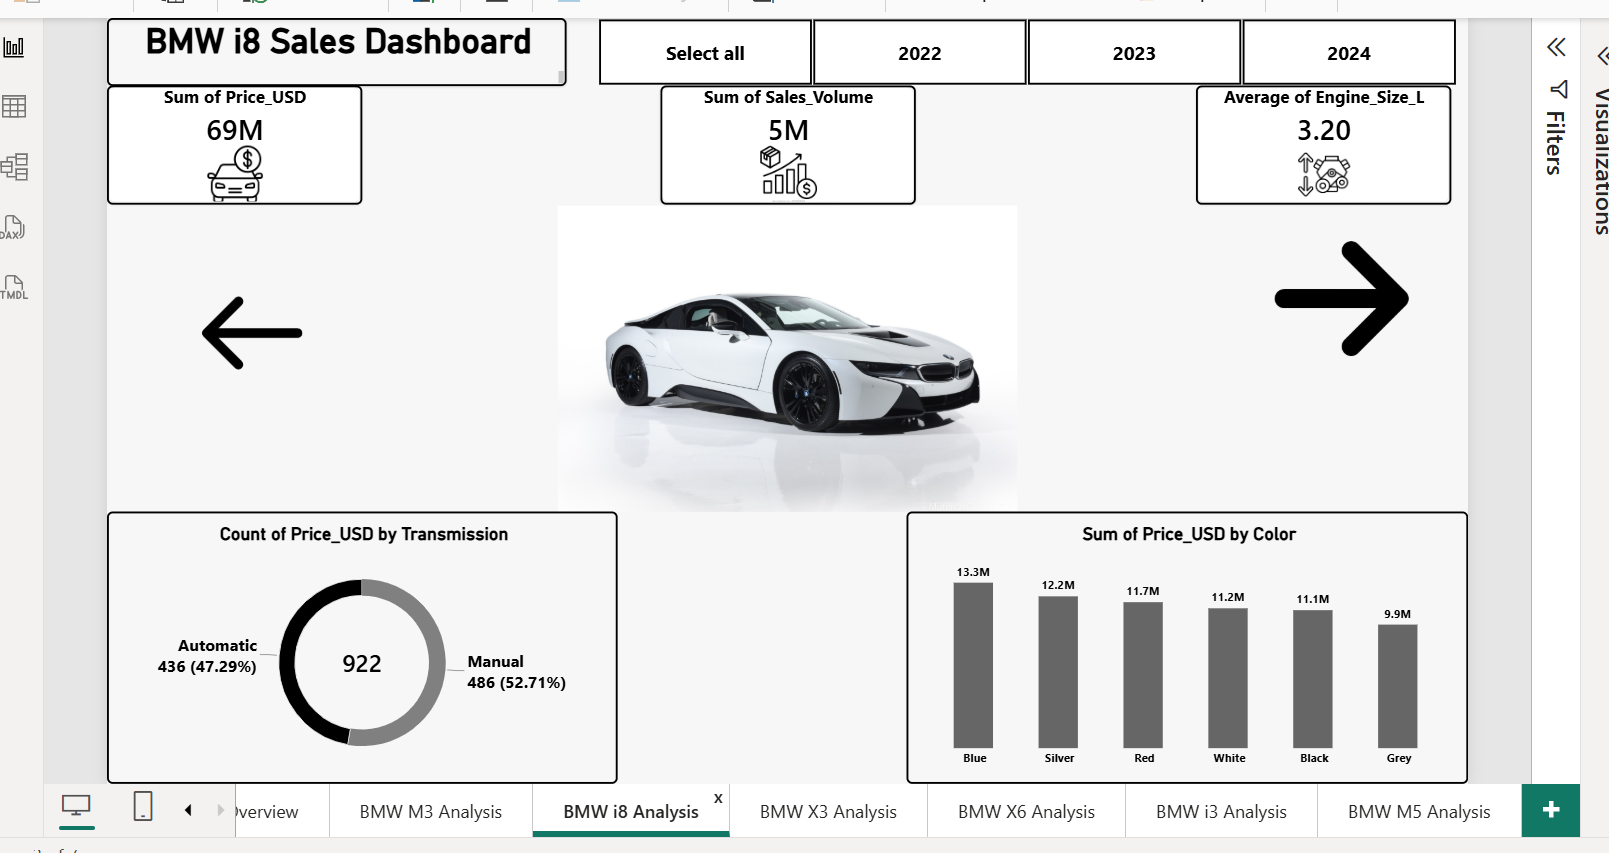

The dashboard page shown, as its layout file describes it:
{"tool":"powerbi","page":{"name":"BMW i8 Analysis","canvas":[1920,1080],"ordinal":2},"visuals":[{"type":"image","box":[360,264,1200,432],"z":0},{"type":"slicer","fields":{"Values":["BMW_Car_Sales_Classification.Year"]},"box":[672,0,1248,96],"z":1000},{"type":"textbox","title":"BMW  i8 Sales Dashboard","box":[0,0,648,96],"z":2000},{"type":"cardVisual","fields":{"Data":["Sum(BMW_Car_Sales_Classification.Price_USD)"]},"box":[0,96,360,168],"z":3000},{"type":"cardVisual","fields":{"Data":["Avg(BMW_Car_Sales_Classification.Engine_Size_L)"]},"box":[1536,96,360,168],"z":4000},{"type":"cardVisual","fields":{"Data":["Sum(BMW_Car_Sales_Classification.Sales_Volume)"]},"box":[780,96,360,168],"z":5000},{"type":"columnChart","fields":{"Category":["BMW_Car_Sales_Classification.Color"],"Y":["Sum(BMW_Car_Sales_Classification.Price_USD)"]},"box":[1128,696,792,384],"z":6000},{"type":"donutChart","fields":{"Category":["BMW_Car_Sales_Classification.Transmission"],"Y":["CountNonNull(BMW_Car_Sales_Classification.Price_USD)"]},"box":[0,696,720,384],"z":7000},{"type":"image","box":[1560,288,360,216],"z":8000},{"type":"image","box":[24,336,360,216],"z":8001}]}

Visuals, with their boxes on the page's 1920x1080 design canvas (x1, y1, x2, y2). These are canvas units, not pixel positions in the 1609x853 screenshot, which may show the page scaled, cropped or inside an application window:
image: box(360, 264, 1560, 696)
slicer - BMW_Car_Sales_Classification.Year: box(672, 0, 1920, 96)
"BMW  i8 Sales Dashboard" textbox: box(0, 0, 648, 96)
cardVisual - Sum(BMW_Car_Sales_Classification.Price_USD): box(0, 96, 360, 264)
cardVisual - Avg(BMW_Car_Sales_Classification.Engine_Size_L): box(1536, 96, 1896, 264)
cardVisual - Sum(BMW_Car_Sales_Classification.Sales_Volume): box(780, 96, 1140, 264)
columnChart - BMW_Car_Sales_Classification.Color x Sum(BMW_Car_Sales_Classification.Price_USD): box(1128, 696, 1920, 1080)
donutChart - BMW_Car_Sales_Classification.Transmission x CountNonNull(BMW_Car_Sales_Classification.Price_USD): box(0, 696, 720, 1080)
image: box(1560, 288, 1920, 504)
image: box(24, 336, 384, 552)
